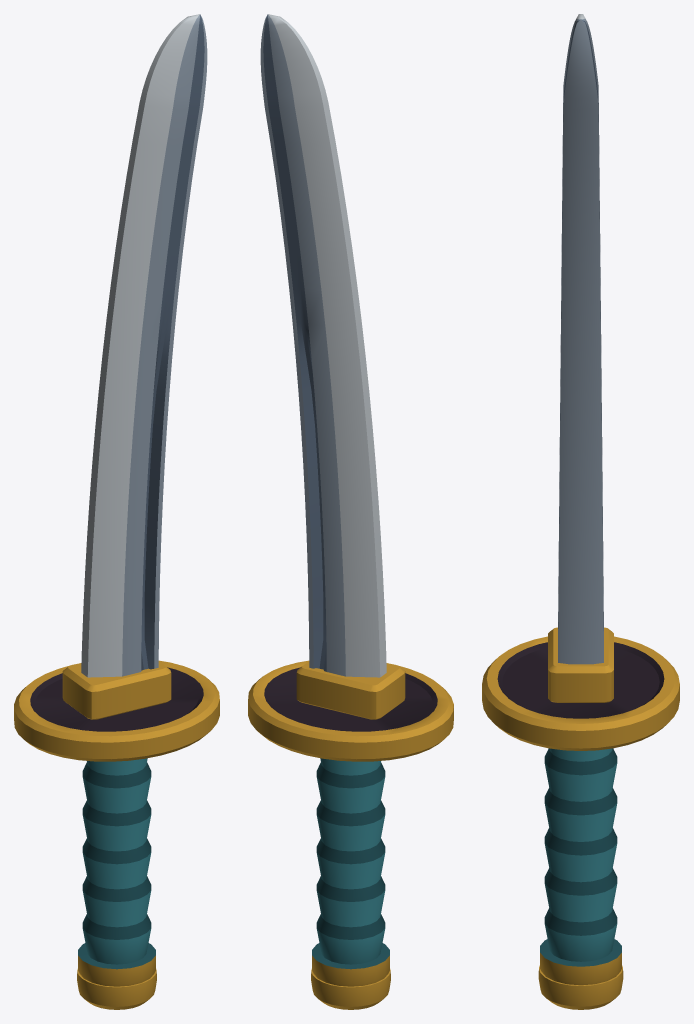
Rendered from Katana_17.glb.
3 views of the same model, side by side, from view 1: azimuth 30°, elevation 25°; view 2: azimuth 150°, elevation 25°; view 3: azimuth 270°, elevation 25° (orthographic). The views are drawn at different scales.
Visible parts, largest first — view 1: Katana_17; view 2: Katana_17; view 3: Katana_17.
Boxes of the visible parts, x1,y1,x2,y2 form: Katana_17: [14, 14, 219, 1009]; Katana_17: [248, 14, 453, 1009]; Katana_17: [482, 14, 679, 1009].
Bounding box in the file's own units: 1.28 × 6.4 × 1.12.
